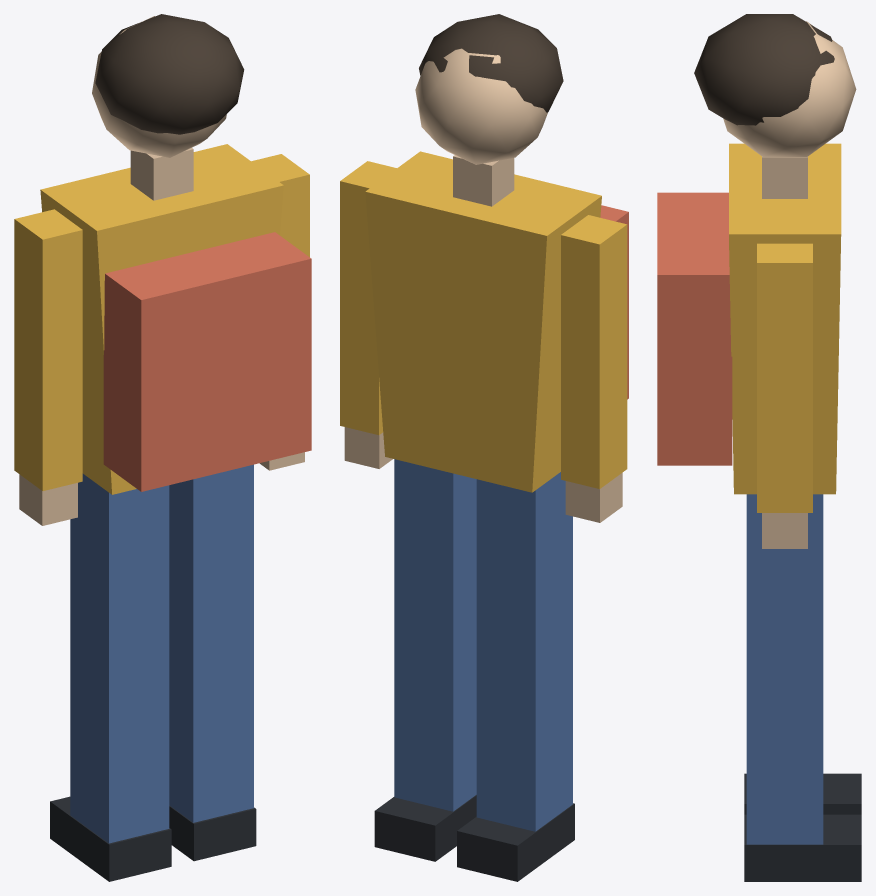
File: ped_kid.glb
3 views of the same model, side by side, from view 1: azimuth 30°, elevation 25°; view 2: azimuth 150°, elevation 25°; view 3: azimuth 270°, elevation 25° (orthographic). The views are drawn at different scales.
Visible parts, largest first — view 1: Body, LegL, LegR; view 2: Body, LegL, LegR; view 3: Body, LegR, LegL.
Part boxes in pixels (box(x1,y1,x2,y2)): Body: box(14, 14, 311, 525); LegL: box(50, 473, 171, 881); LegR: box(169, 464, 256, 861); Body: box(340, 14, 628, 522); LegL: box(457, 472, 574, 881); LegR: box(374, 459, 476, 861); Body: box(657, 14, 856, 548); LegR: box(744, 494, 861, 881); LegL: box(744, 773, 861, 814).
Bounding box in the file's own units: 0.408 × 1.21 × 0.272.
